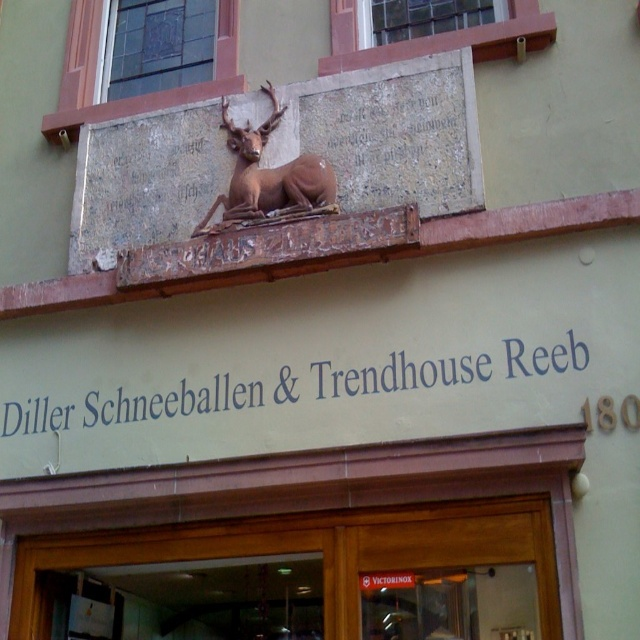Deer: (191, 80, 338, 237)
